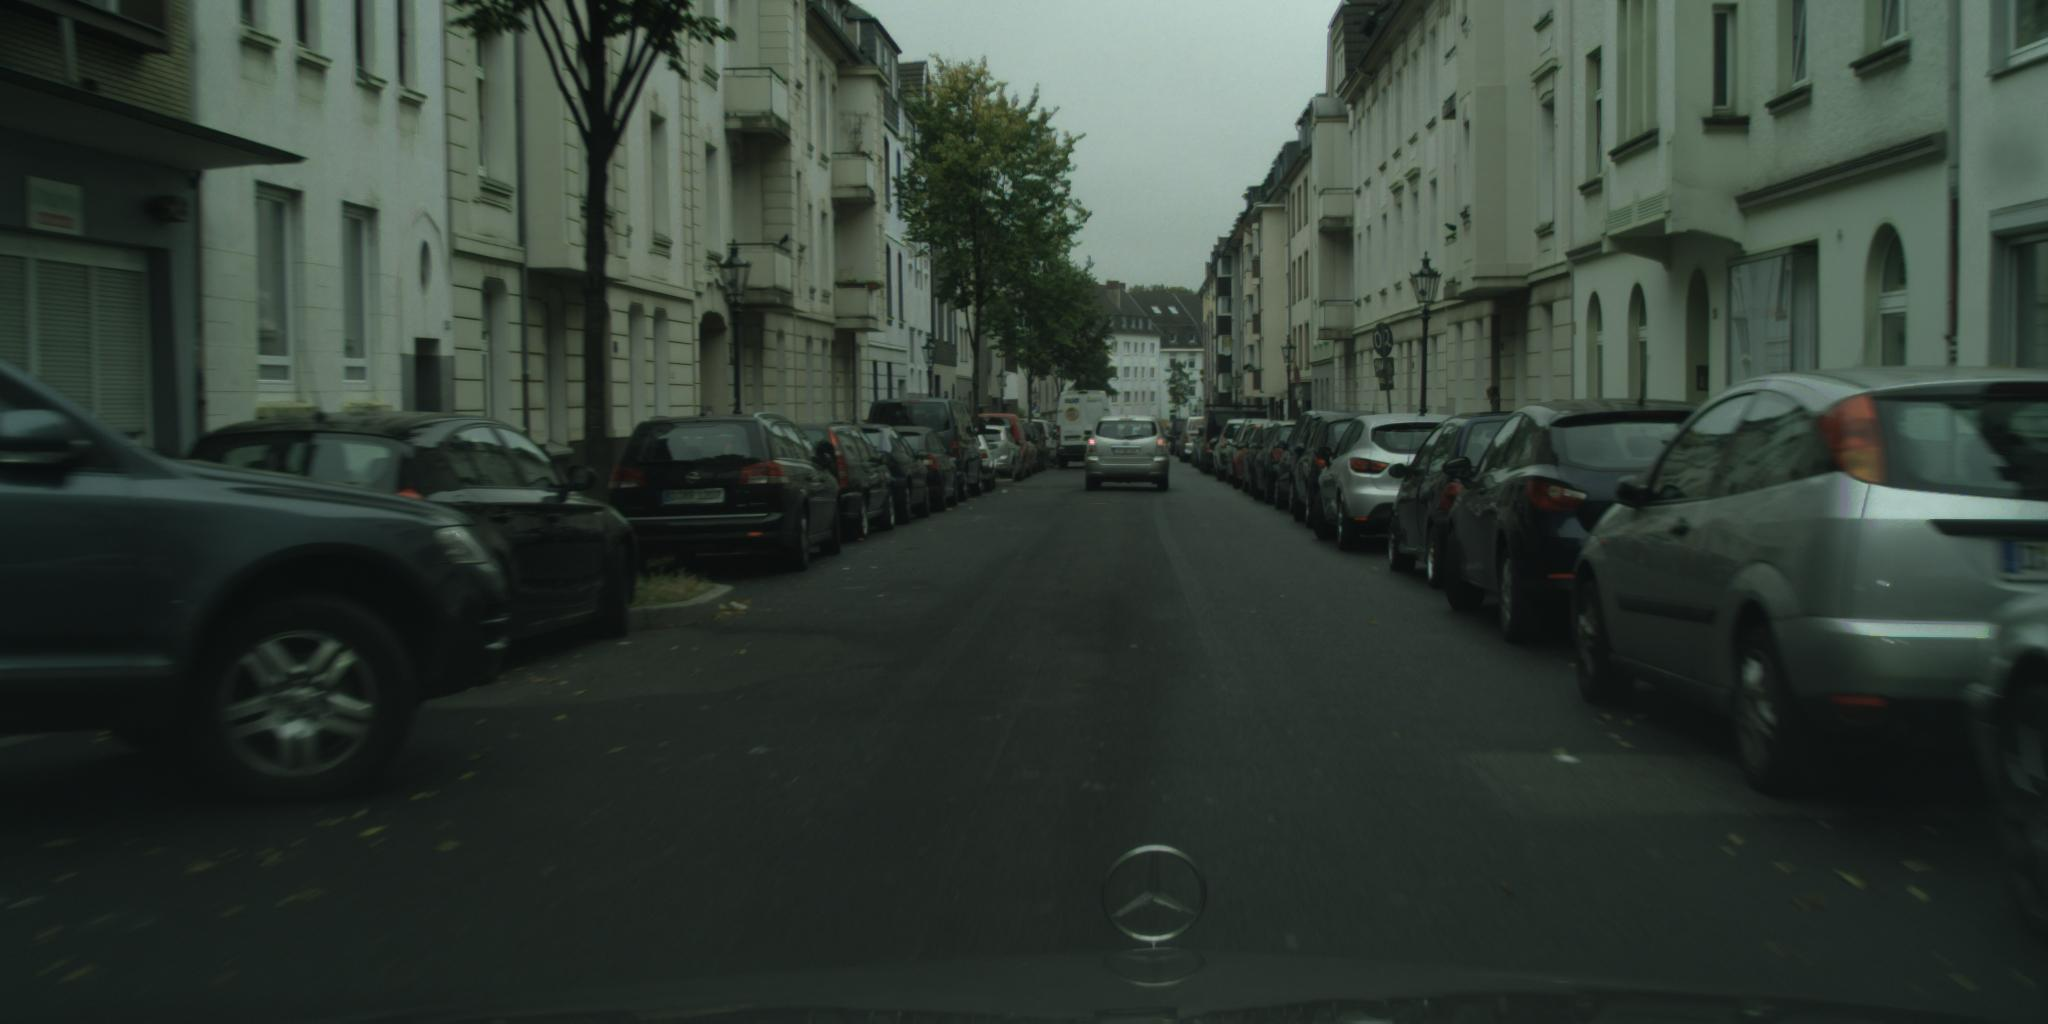car: (1, 353, 525, 805), (1570, 368, 2048, 798), (182, 411, 641, 650), (1442, 400, 1710, 647), (607, 411, 842, 579), (1976, 585, 2048, 973), (1388, 411, 1522, 592), (1314, 414, 1463, 552), (789, 422, 897, 543), (867, 398, 985, 504), (1275, 411, 1387, 515), (1289, 414, 1371, 530), (842, 424, 933, 526), (1085, 415, 1172, 492), (886, 427, 961, 515), (1192, 405, 1270, 475), (1057, 392, 1115, 470), (1213, 421, 1277, 485), (1226, 419, 1287, 486), (1176, 415, 1213, 462)
